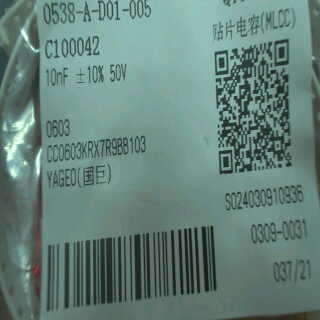10nF: (44, 64, 72, 90)
